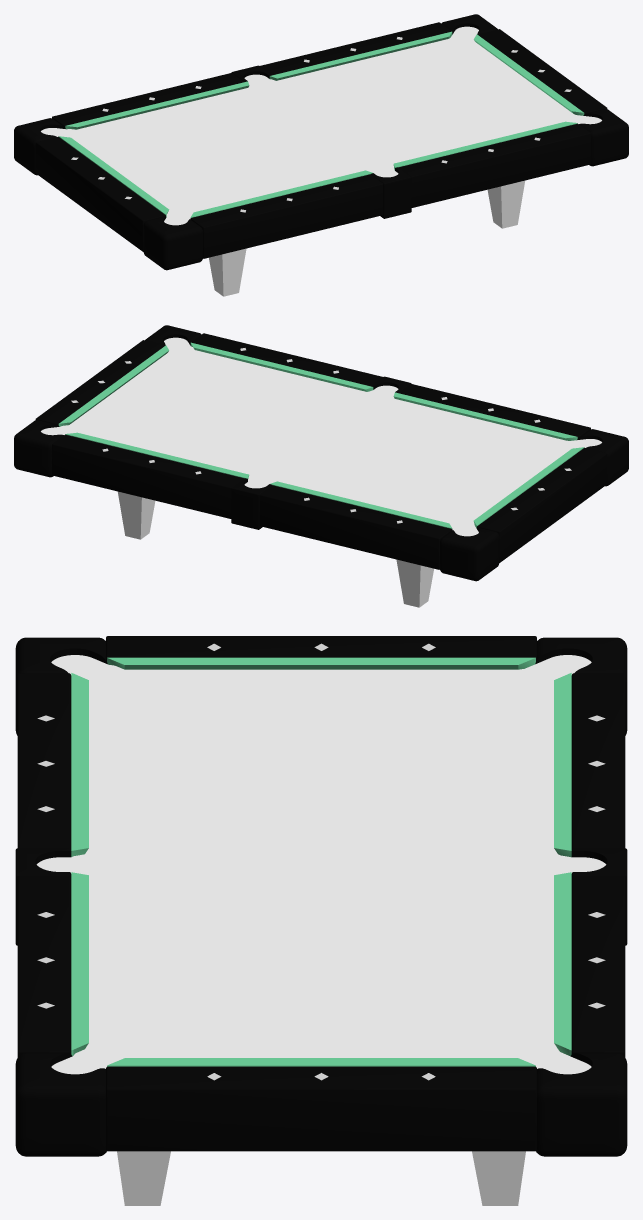
The model's file is Table.fbx.
The picture shows the model from 3 angles, top to bottom: view 1: azimuth 30°, elevation 25°; view 2: azimuth 150°, elevation 25°; view 3: azimuth 270°, elevation 25°; orthographic projection. The views are drawn at different scales.
Visible parts, largest first — view 1: Table Legs, Outer Edges, Pockets, Inner Edges; view 2: Table Legs, Outer Edges, Pockets, Inner Edges; view 3: Table Legs, Outer Edges, Pockets, Inner Edges, Diamonds.
Part boxes in pixels (left/top/right/bottom): Table Legs: left=41, top=26, right=601, bottom=296; Outer Edges: left=35, top=22, right=607, bottom=258; Pockets: left=14, top=14, right=628, bottom=270; Inner Edges: left=58, top=31, right=584, bottom=217; Table Legs: left=41, top=337, right=601, bottom=607; Outer Edges: left=35, top=333, right=607, bottom=569; Pockets: left=14, top=325, right=628, bottom=581; Inner Edges: left=58, top=342, right=584, bottom=528; Table Legs: left=36, top=655, right=606, bottom=1205; Outer Edges: left=17, top=636, right=625, bottom=1151; Pockets: left=15, top=637, right=627, bottom=1156; Inner Edges: left=71, top=657, right=571, bottom=1066; Diamonds: left=37, top=643, right=605, bottom=1080.
Size of the model in its own units: 301 by 62 by 171.
